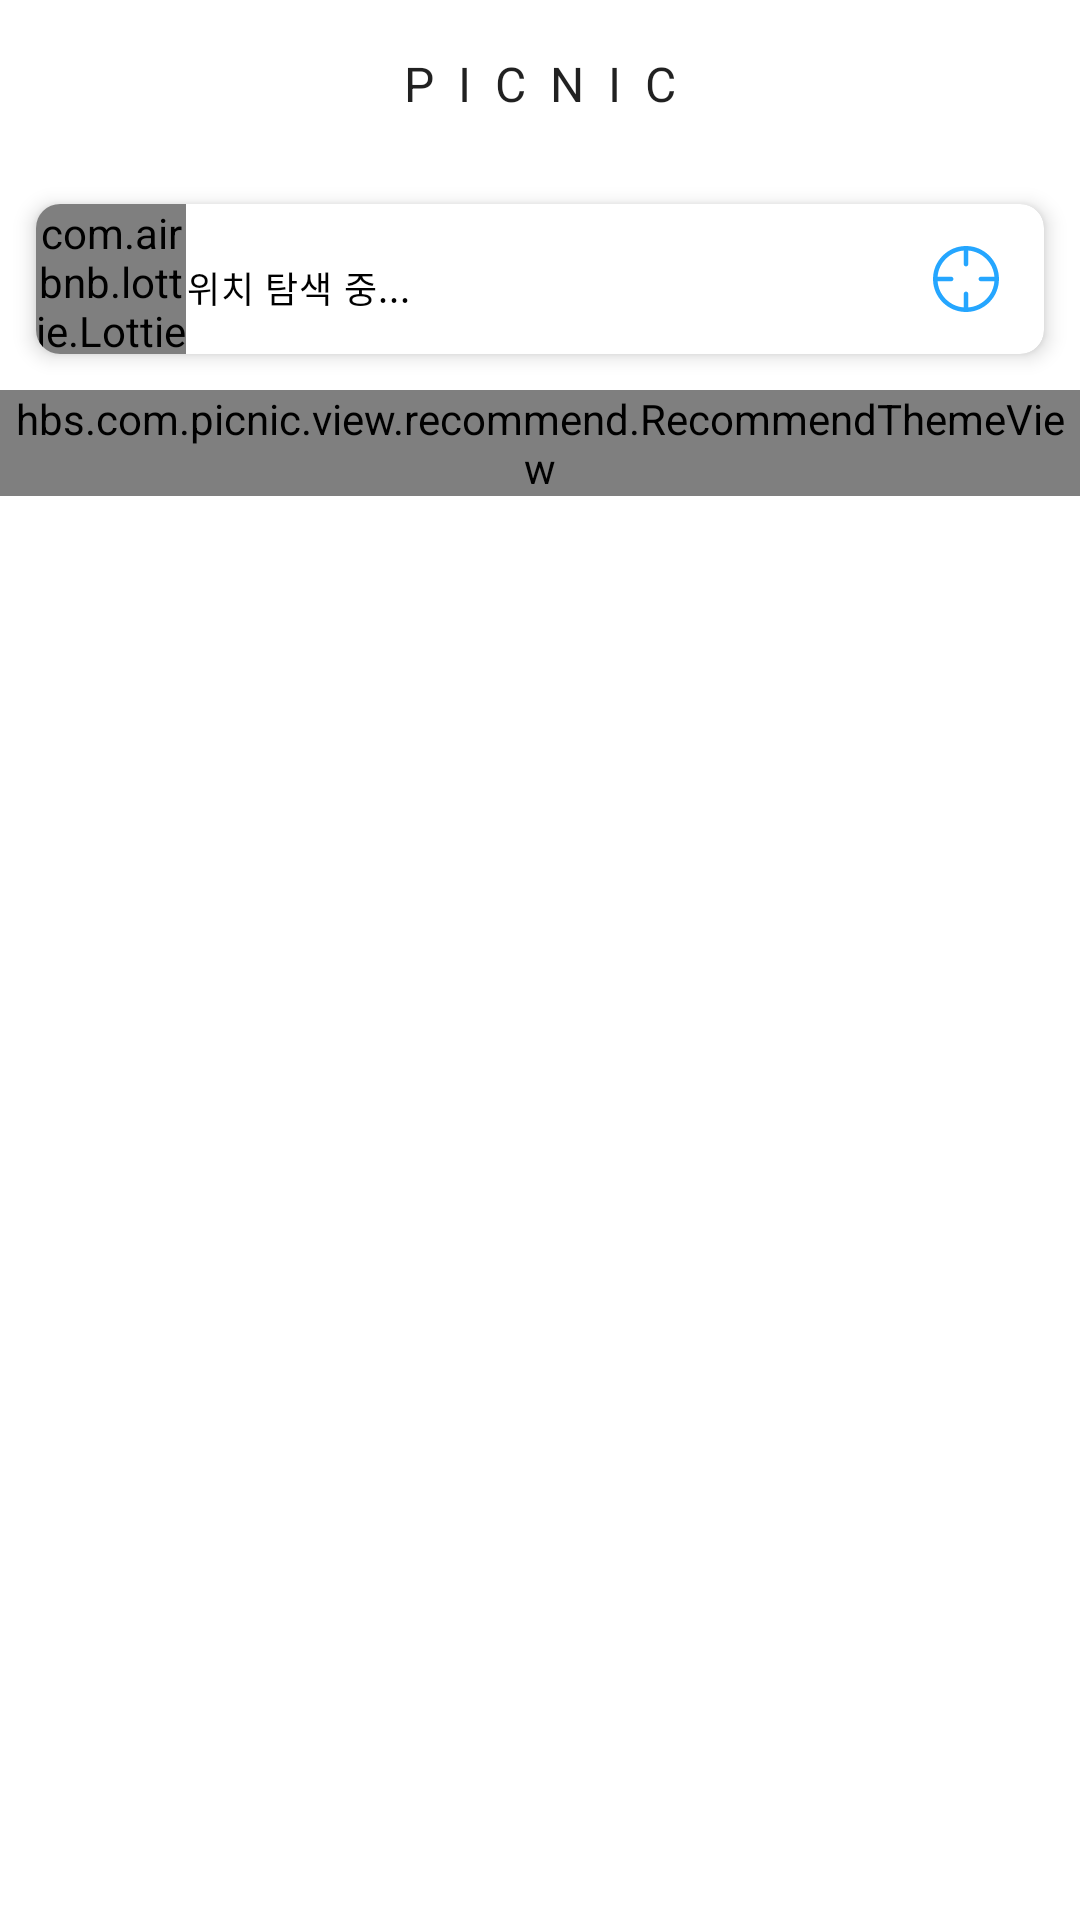

Where icons sit on this 1080x1920 app screen, as (x1, y1, x2, y2):
gps location: (933, 208, 1036, 312)
